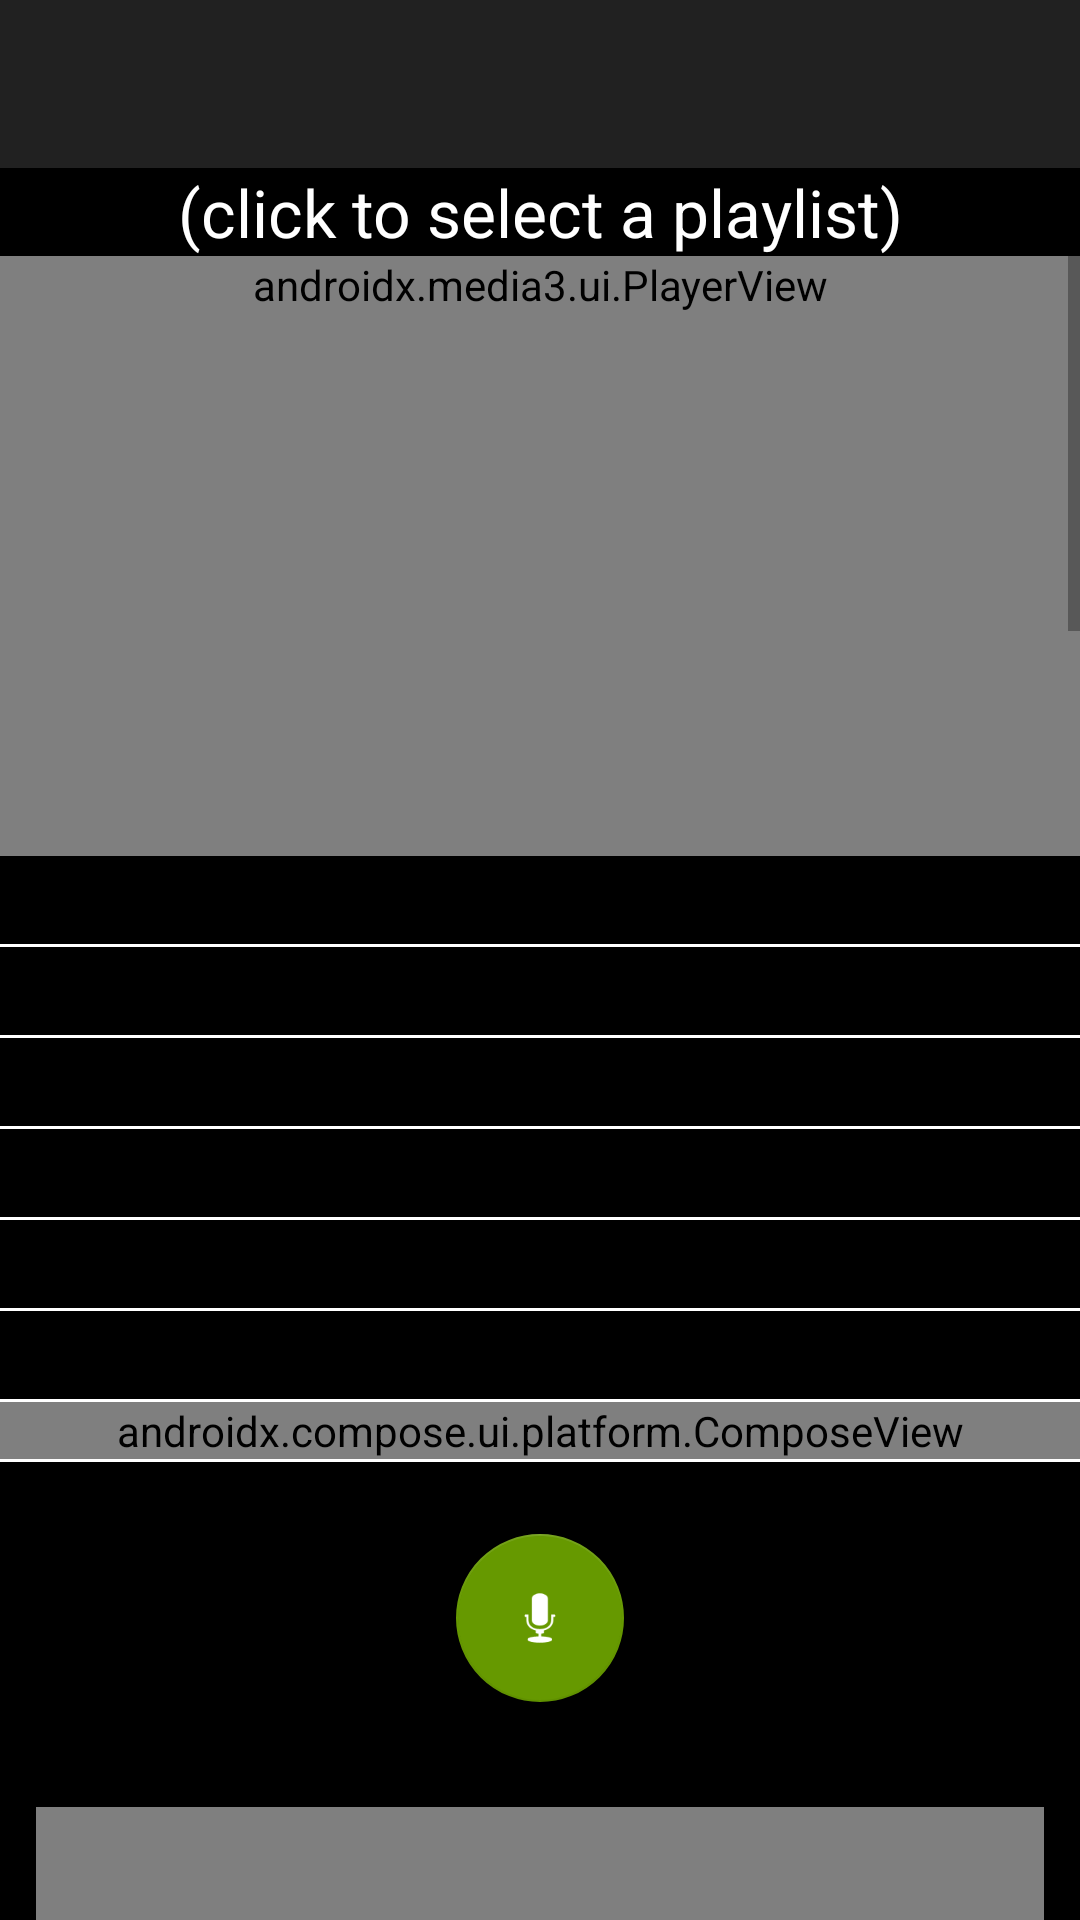

Where icons sit on this 1080px x 1920px app screen, as (x1, y1, x2, y2):
Voice Command: (456, 1534, 624, 1702)
